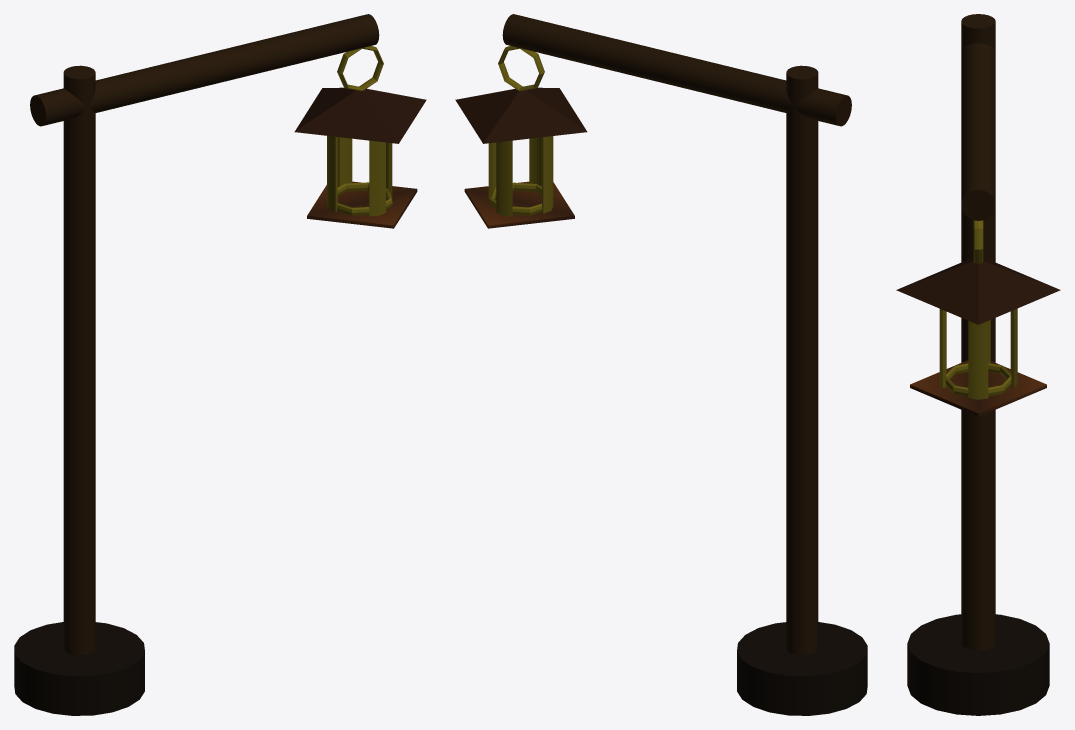
Rendered from pole.fbx.
3 views of the same model, side by side, from view 1: azimuth 30°, elevation 25°; view 2: azimuth 150°, elevation 25°; view 3: azimuth 270°, elevation 25° (orthographic). The views are drawn at different scales.
Visible parts, largest first — view 1: pCylinder4; view 2: pCylinder4; view 3: pCylinder4.
Part boxes in pixels (x1,y1,x2,y2): pCylinder4: (14, 14, 426, 715); pCylinder4: (455, 14, 867, 715); pCylinder4: (896, 14, 1060, 715).
Bounding box in the file's own units: 7.09 × 10.33 × 2.32.
